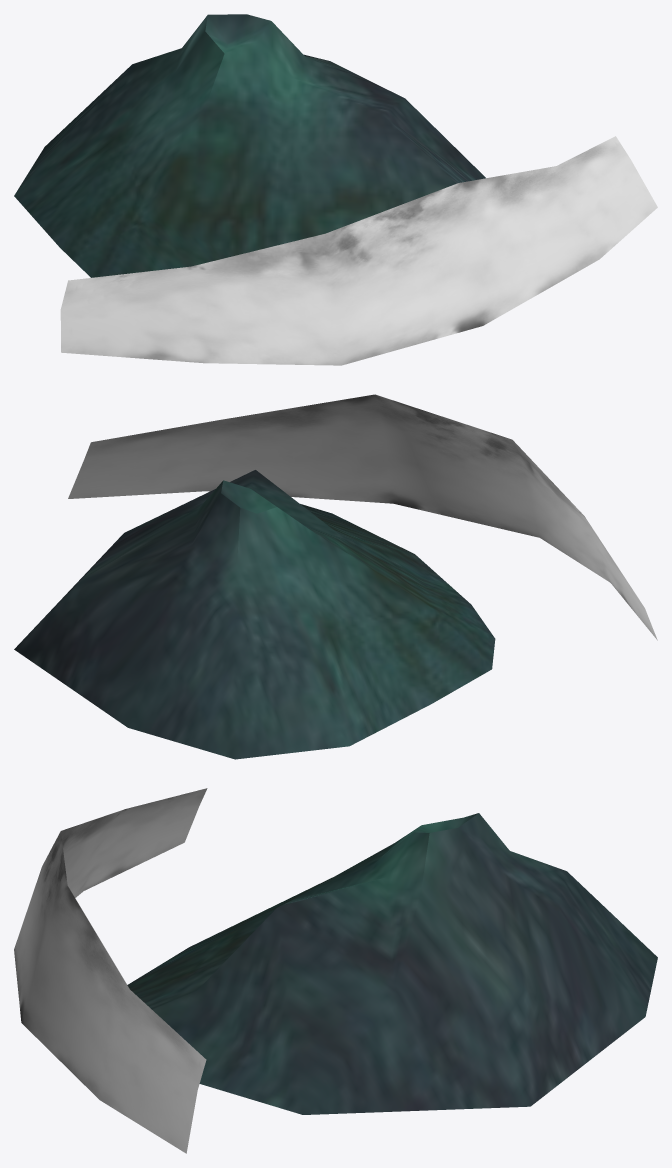
File: pir_m_are_isl_mysterious_08_low.fbx
3 views of the same model, one above another, from view 1: azimuth 30°, elevation 25°; view 2: azimuth 150°, elevation 25°; view 3: azimuth 270°, elevation 25° (orthographic). The views are drawn at different scales.
Parts seen in each view (by area): view 1: hill, fog; view 2: hill, fog; view 3: hill, fog.
Part boxes in pixels (x1=…): hill: x1=14, y1=14, x2=485, y2=277; fog: x1=60, y1=136, x2=657, y2=365; hill: x1=14, y1=470, x2=495, y2=759; fog: x1=68, y1=394, x2=657, y2=640; hill: x1=127, y1=813, x2=657, y2=1114; fog: x1=14, y1=788, x2=207, y2=1153.
Bounding box in the file's own units: 270912 × 77453 × 237842.
Materials: 2 (2 with a texture image).
